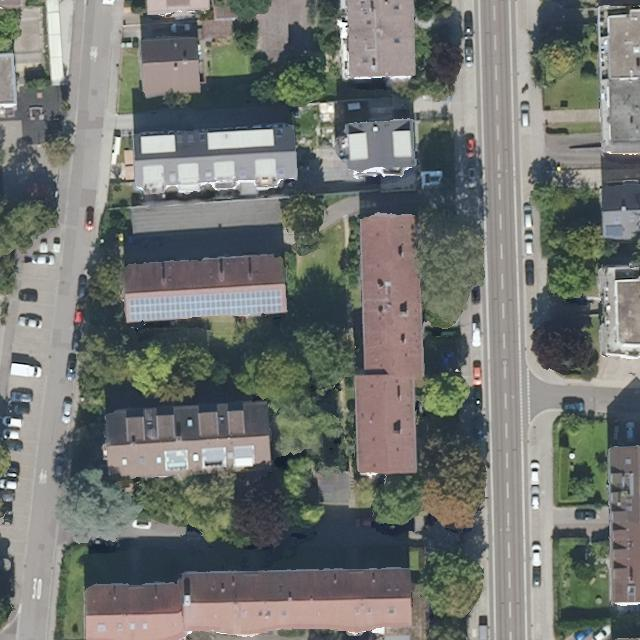PV: (126, 287, 286, 327)
